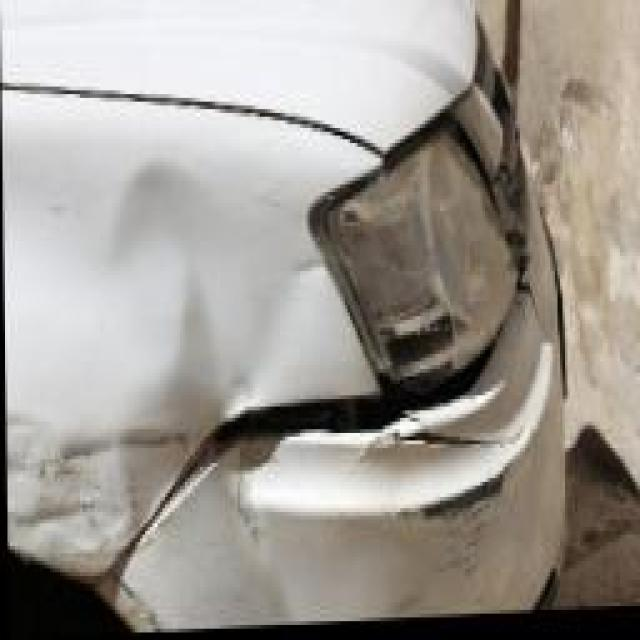Bumper: (162, 376, 575, 632)
Fender: (18, 94, 369, 459)
